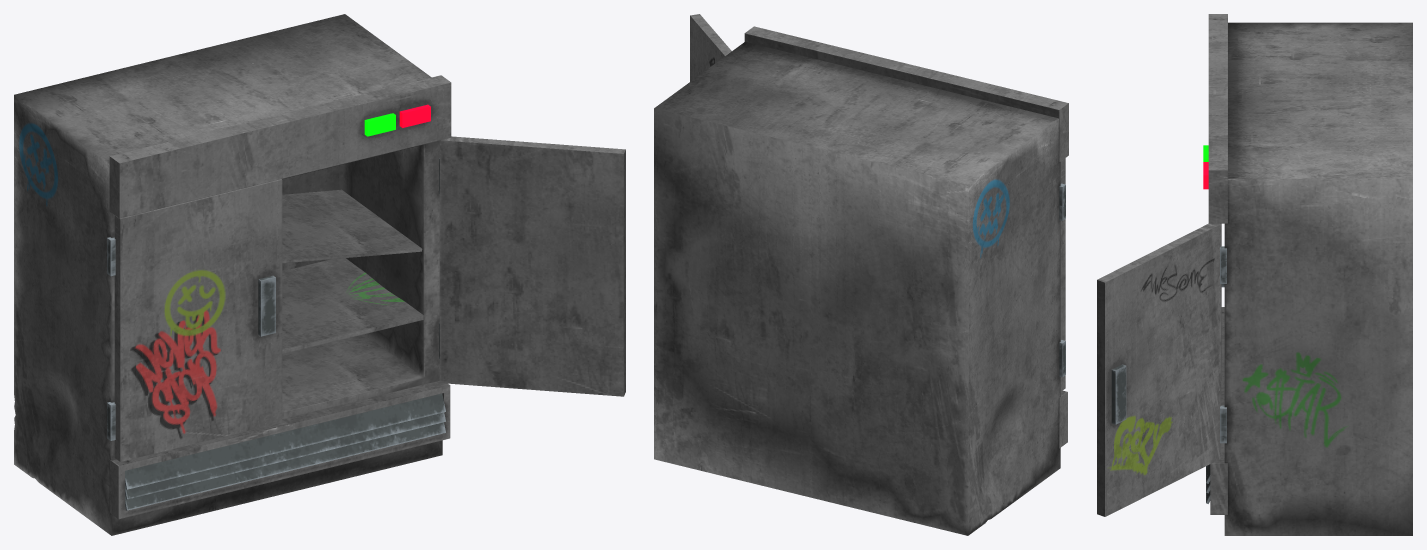
File: industrial fridge open door.fbx
3 views of the same model, side by side, from view 1: azimuth 30°, elevation 25°; view 2: azimuth 150°, elevation 25°; view 3: azimuth 270°, elevation 25° (orthographic). The views are drawn at different scales.
Parts seen in each view (by area): view 1: industrial fridge door open; view 2: industrial fridge door open; view 3: industrial fridge door open.
Boxes of the visible parts, left/top/right/bottom form: industrial fridge door open: left=14, top=14, right=625, bottom=535; industrial fridge door open: left=654, top=14, right=1068, bottom=535; industrial fridge door open: left=1097, top=14, right=1412, bottom=535.
Size of the model in its own units: 543 by 431 by 338.
3 materials, 1 textured.
